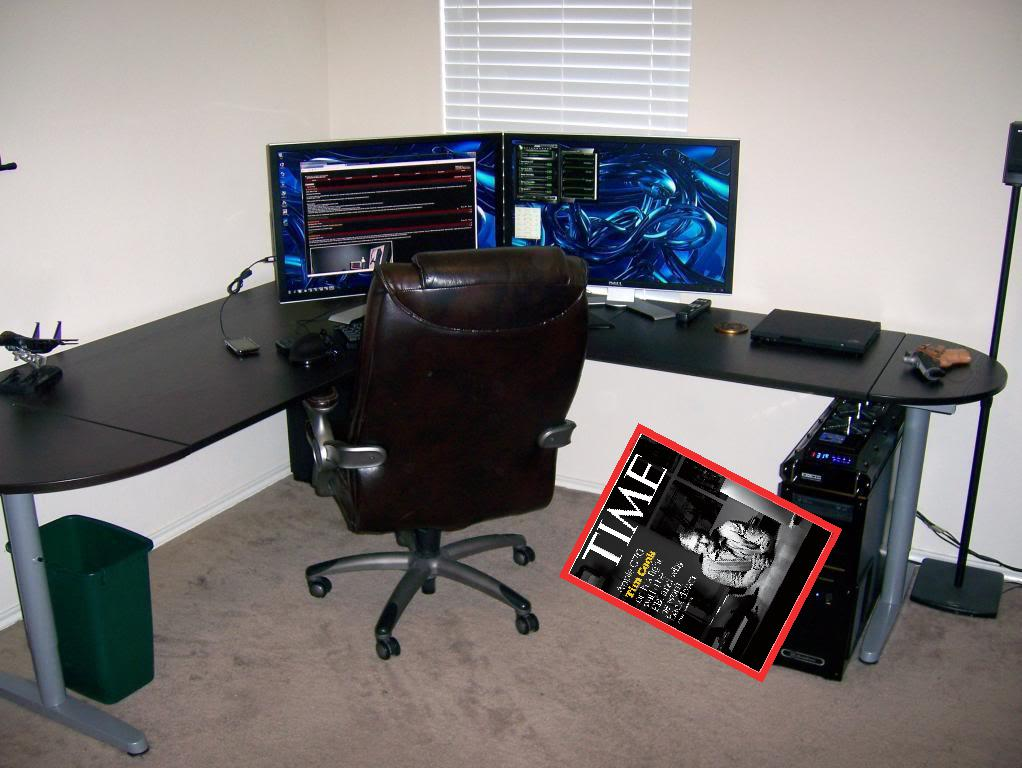times: (554, 423, 843, 685)
